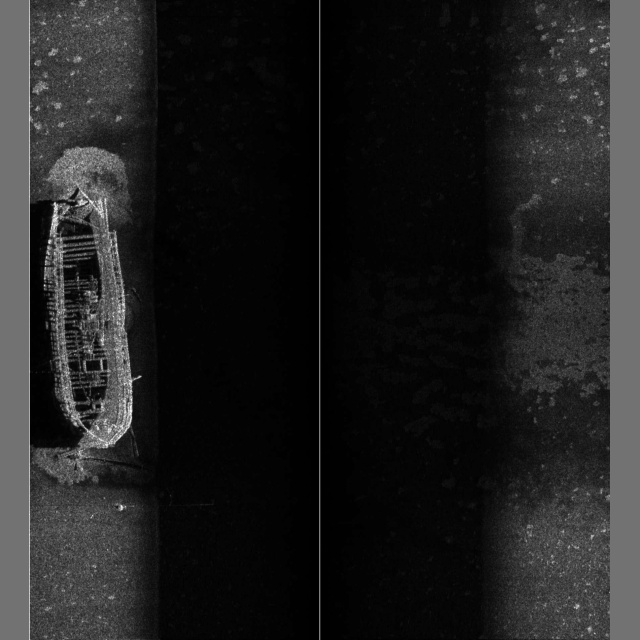Shipwreck: (43, 182, 154, 474)
